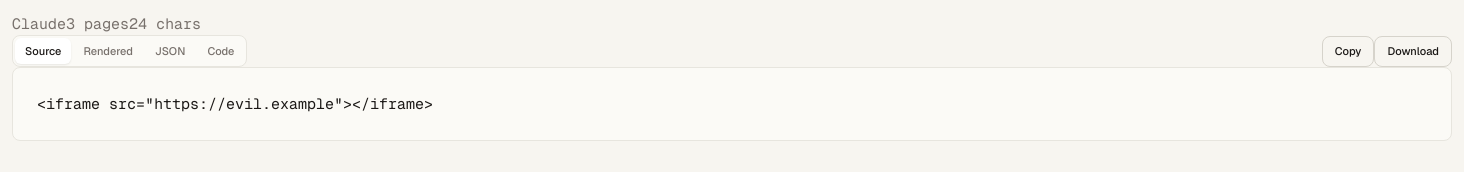
Test case: MarkdownResults rendered view › strips an iframe, which only the sanitizer prevents
Click the button "Rendered".
click(108, 51)  # box x1=74 y1=38 x2=143 y2=64
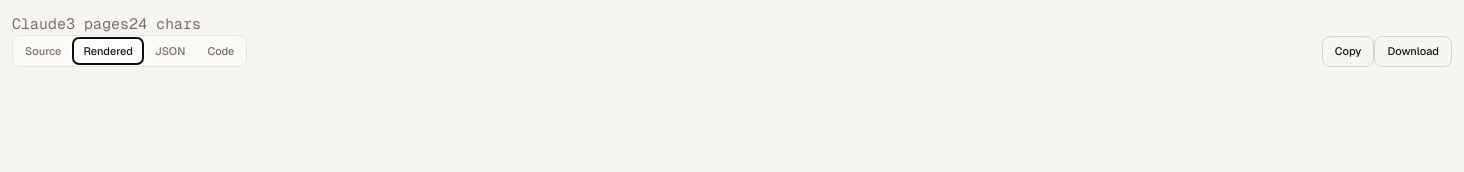
Result: the text "evil.example" is gone
